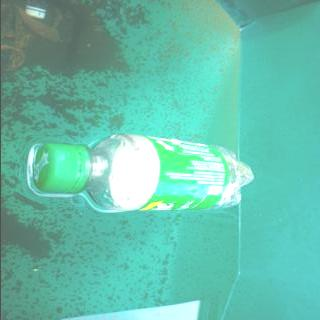bottle: (29, 132, 255, 214)
